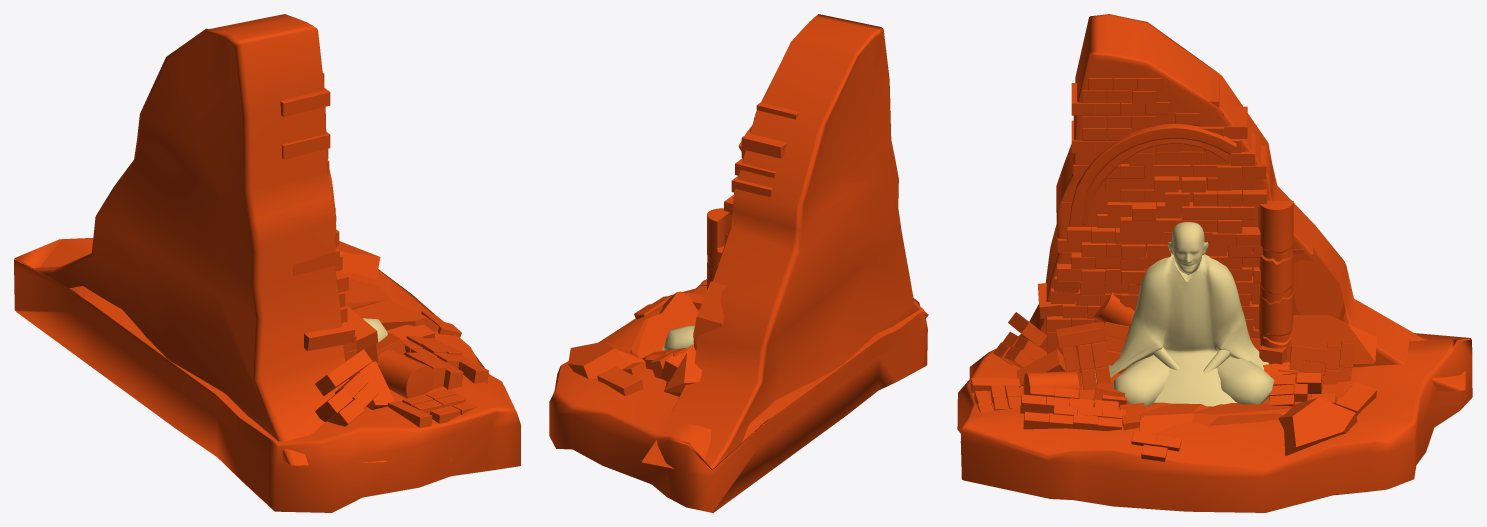
The model's file is FM_Old_man_Statue_001.fbx.
3 renders of one model, left to right at view 1: azimuth 30°, elevation 25°; view 2: azimuth 150°, elevation 25°; view 3: azimuth 270°, elevation 25°, orthographic. The views are drawn at different scales.
Visible parts, largest first — view 1: FM_Old_man_Statue_001.257; view 2: FM_Old_man_Statue_001.257; view 3: FM_Old_man_Statue_001.257.
Part boxes in pixels (x1,y1,x2,y2): FM_Old_man_Statue_001.257: (14,14,520,512); FM_Old_man_Statue_001.257: (549,14,928,512); FM_Old_man_Statue_001.257: (957,14,1472,512).
Size of the model in its own units: 12.41 by 18.31 by 22.11.
